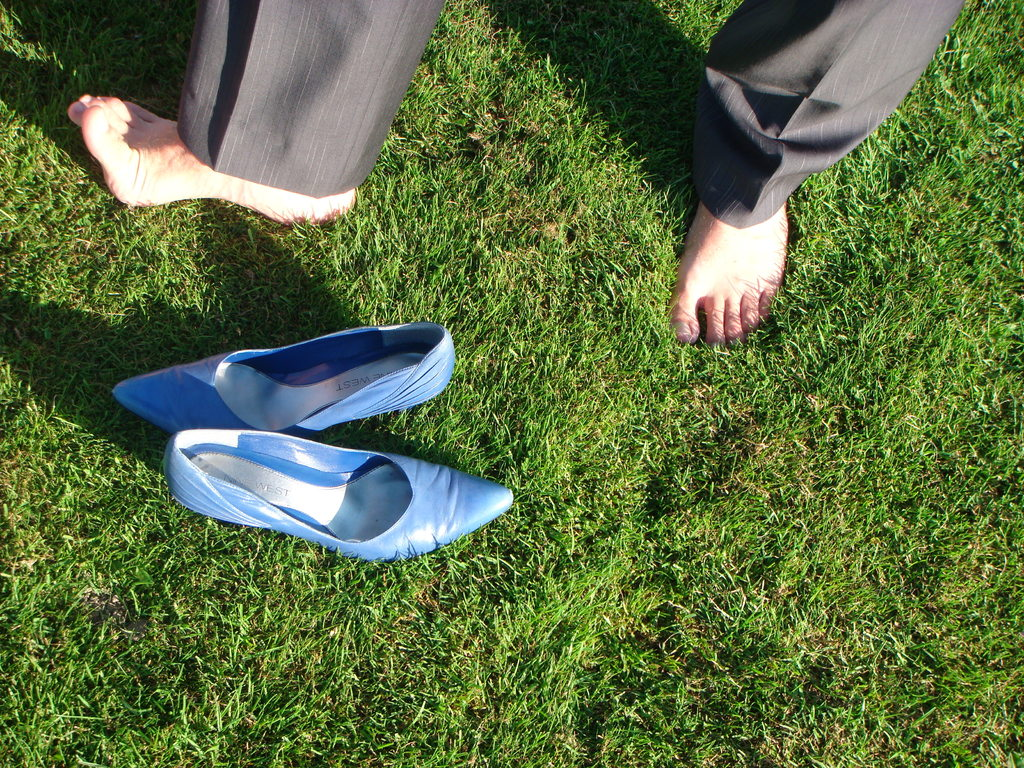Footwear: (178, 428, 513, 565), (108, 322, 445, 445)
